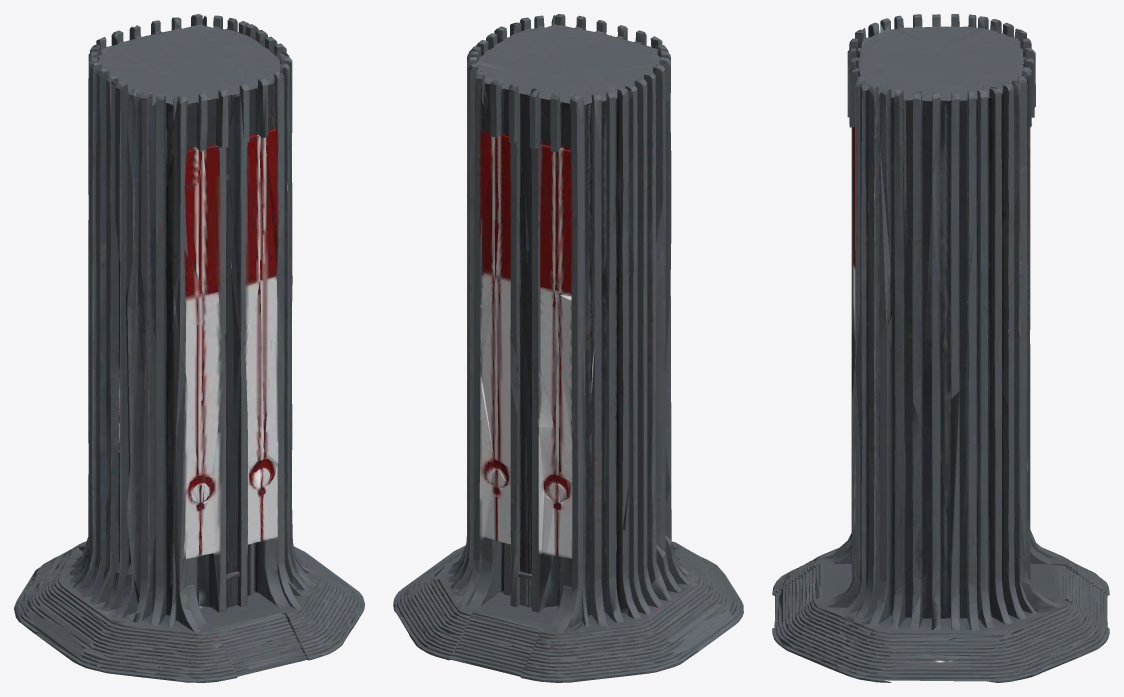
File: kestrotower.lod1.glb
3 renders of one model, left to right at view 1: azimuth 30°, elevation 25°; view 2: azimuth 150°, elevation 25°; view 3: azimuth 270°, elevation 25°, orthographic.
Parts seen in each view (by area): view 1: kestrotower-centred; view 2: kestrotower-centred; view 3: kestrotower-centred.
Part boxes in pixels (x1=…): kestrotower-centred: x1=14, y1=14, x2=364, y2=682; kestrotower-centred: x1=393, y1=14, x2=743, y2=682; kestrotower-centred: x1=772, y1=14, x2=1109, y2=682.
Size of the model in its own units: 64.76 by 120 by 65.65.
1 material, 1 textured.
